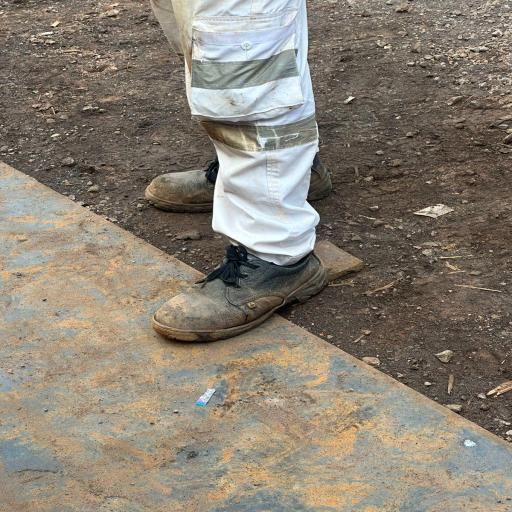safety_shoe: (143, 249, 330, 341), (143, 163, 235, 208)
